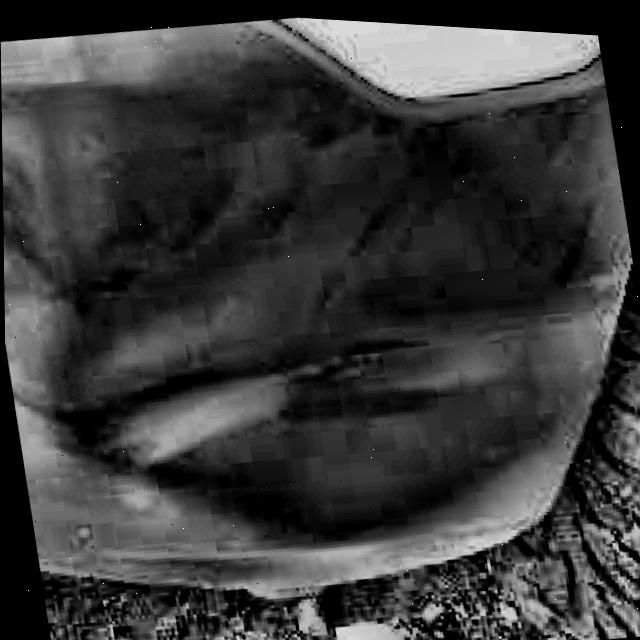bumper_dent: (322, 251, 608, 448), (209, 419, 482, 603), (53, 349, 268, 482)
